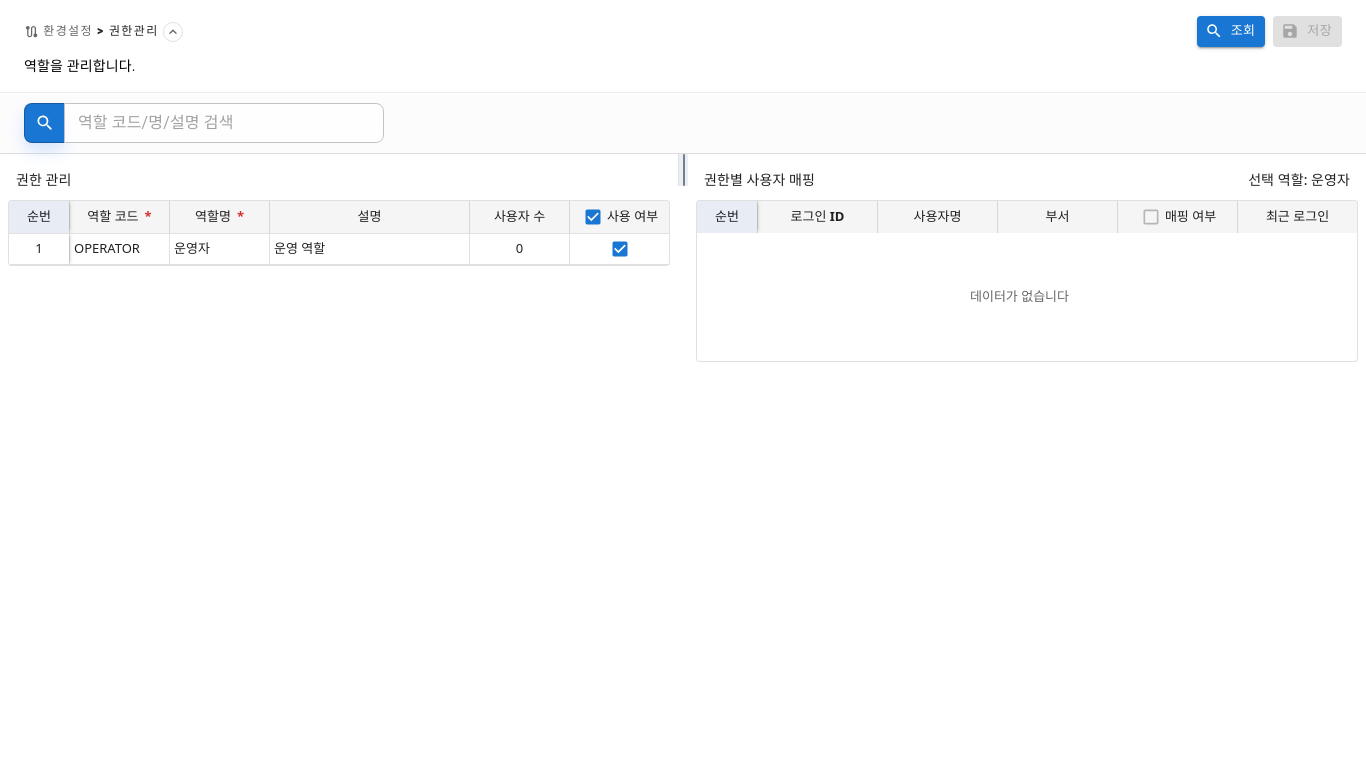
Scenario: RoleManagementPage notifications › updates a persisted role and resets the role grid baseline after refresh
Double-click the cell "운영자" at (219, 249), box [169,233,269,265]
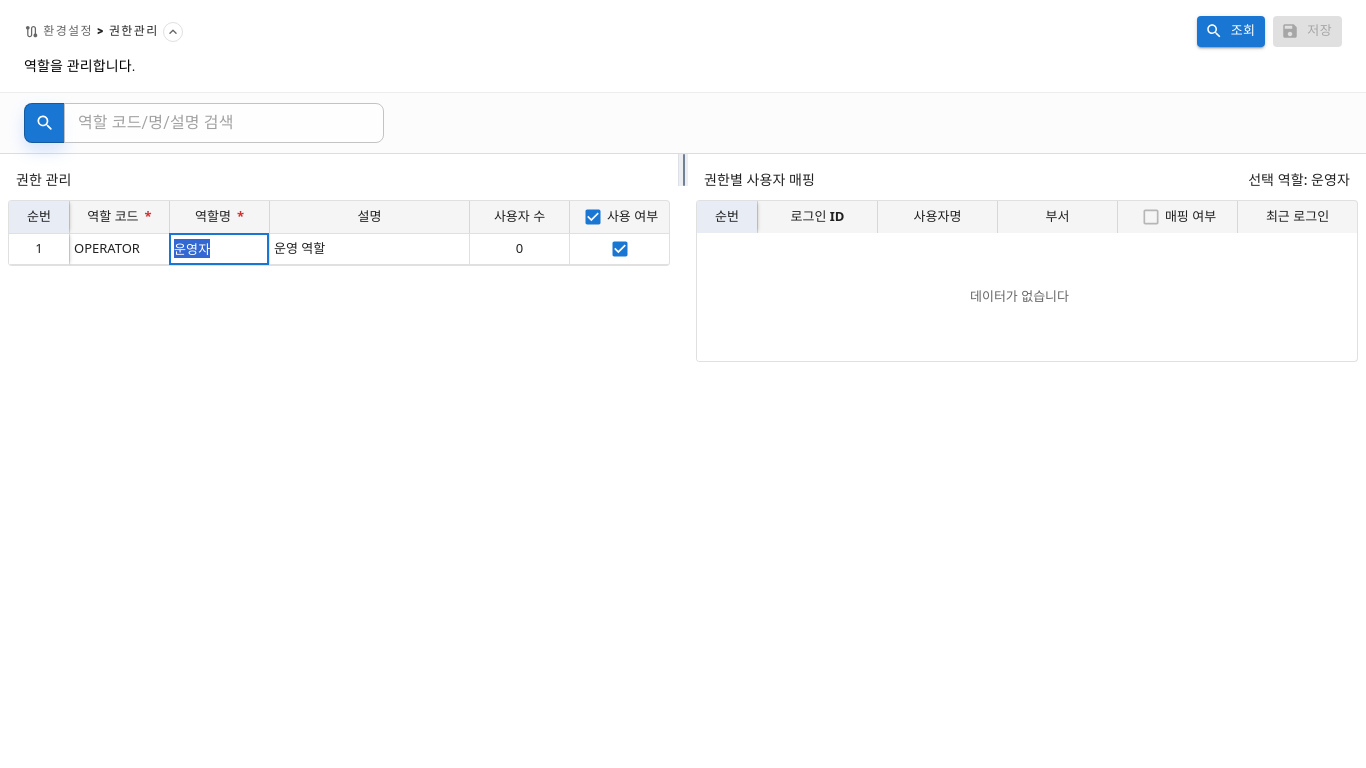
Replace the text in the field showing "운영자" with "운영 담당자" at (220, 249), box [174,238,265,260]
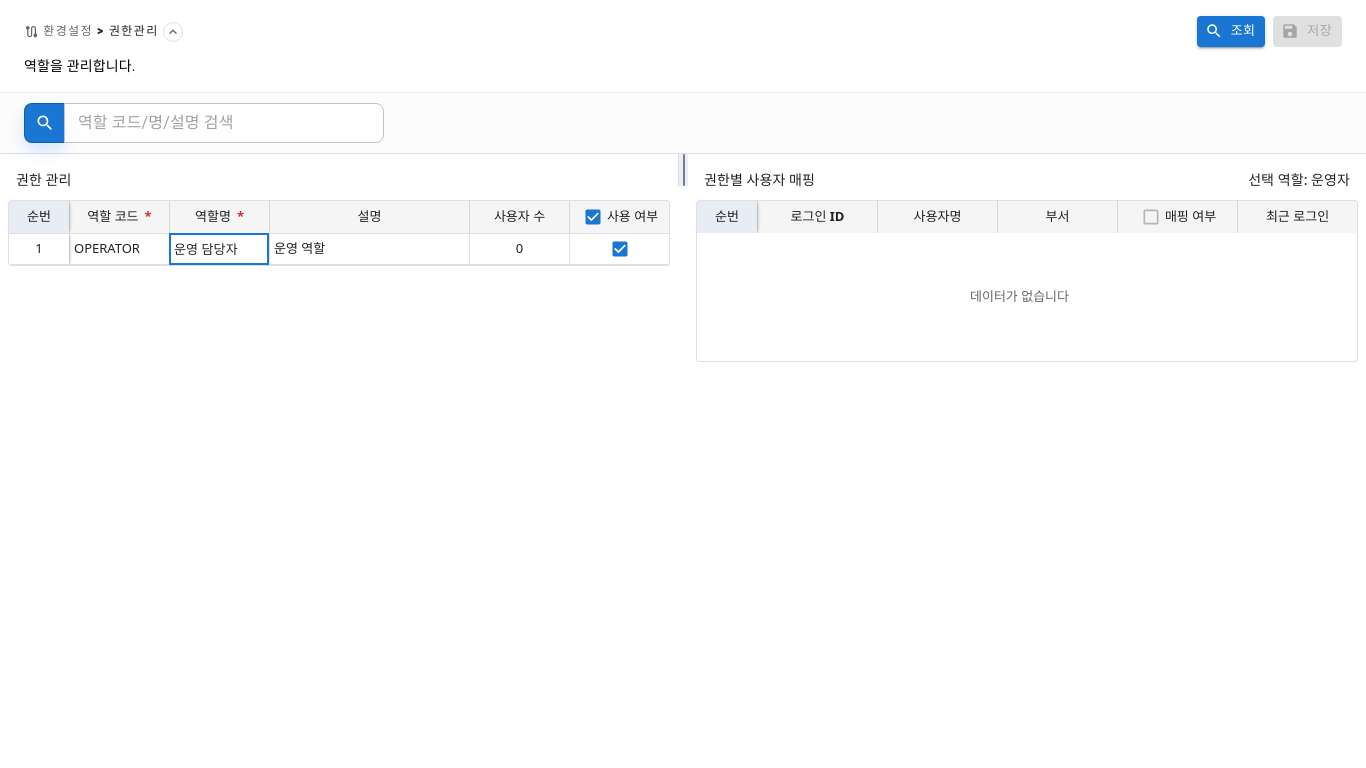
Press Enter in the field showing "운영자", box [174,238,265,260]
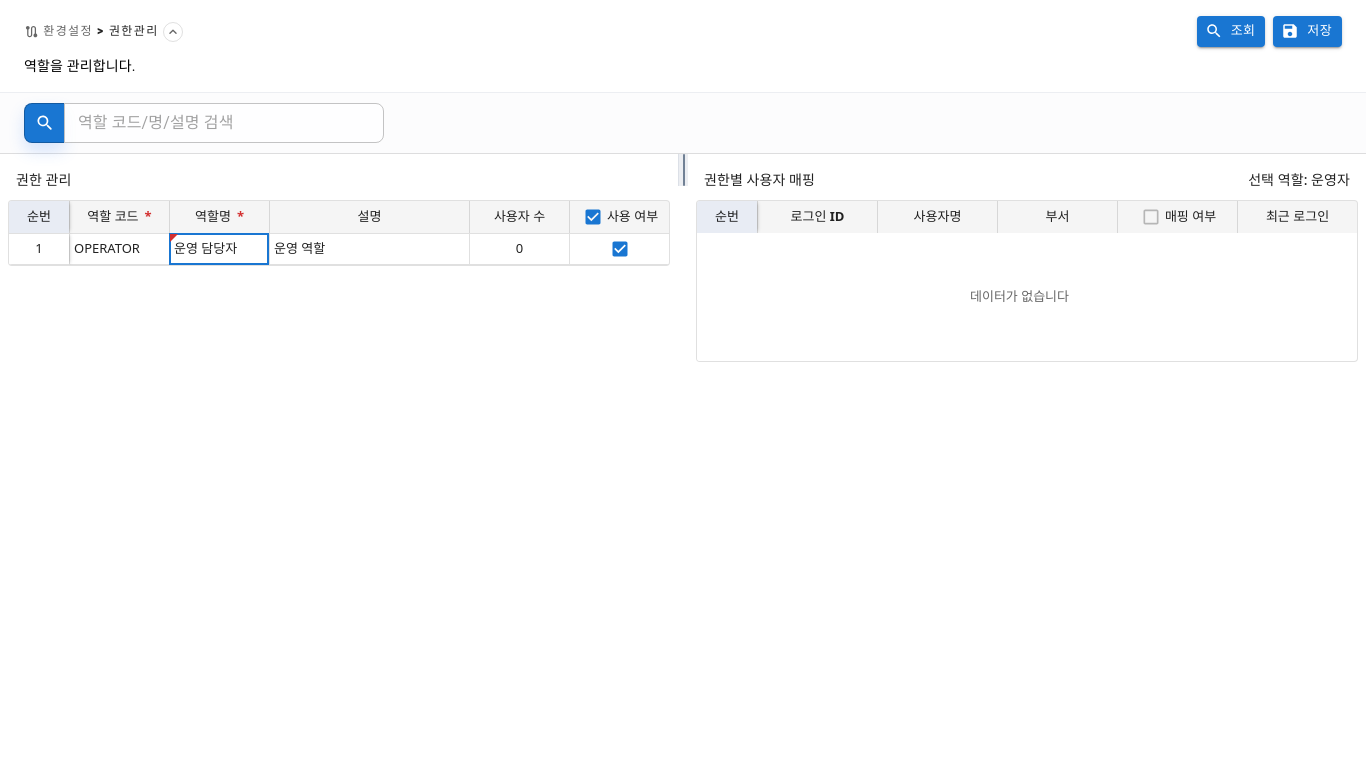
Result: the button "저장" is enabled
Click the button "저장" at (1308, 31), box [1273,16,1342,47]
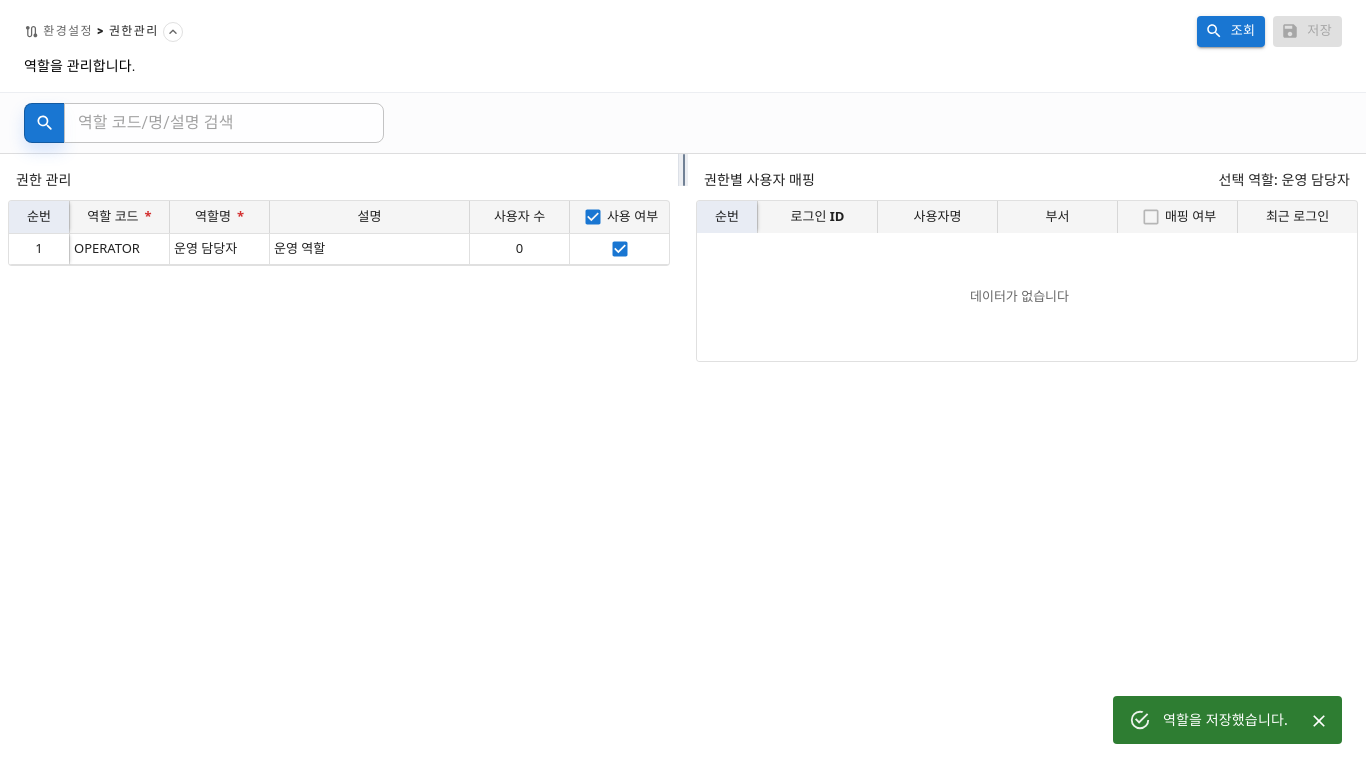
Result: the cell "운영 담당자" is shown at [169,233,269,265]
Result: the button "저장" is disabled at [1273,16,1342,47]
